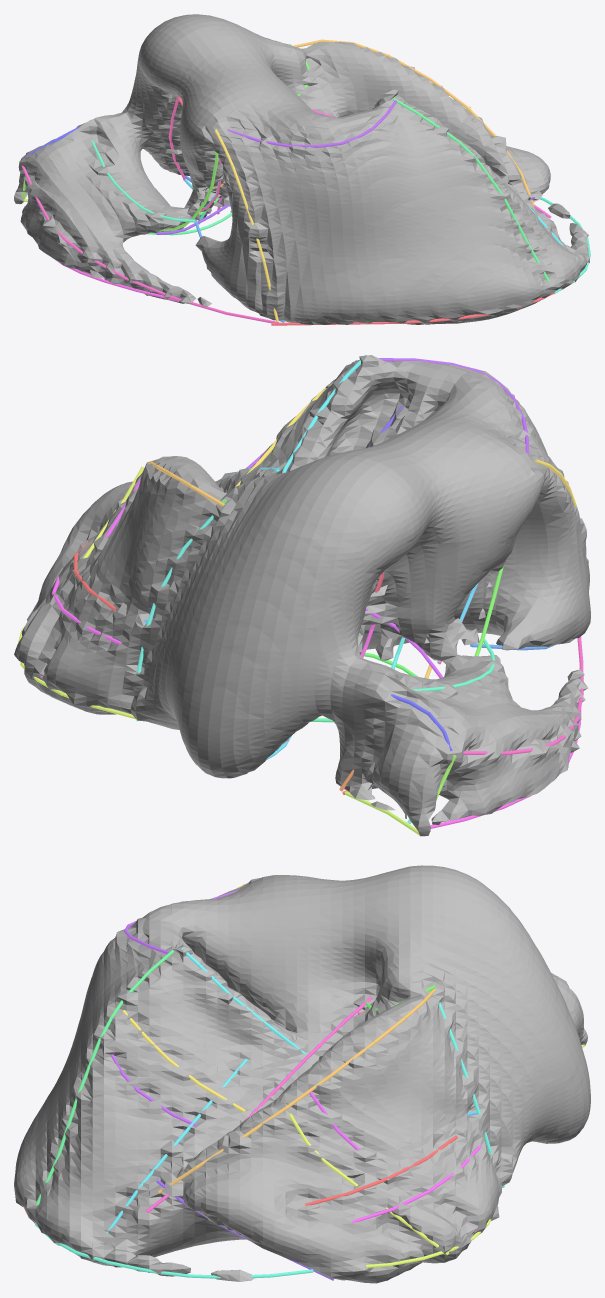
Rendered from author1_building.gltf.
3 renders of one model, top to bottom at view 1: azimuth 30°, elevation 25°; view 2: azimuth 150°, elevation 25°; view 3: azimuth 270°, elevation 25°, orthographic. The views are drawn at different scales.
Bounding box in the file's own units: 0.7082 × 0.3548 × 0.6757.
